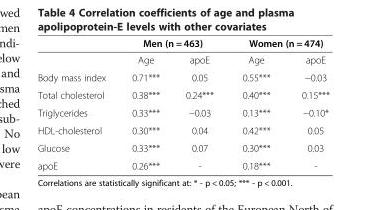table: (36, 37, 328, 170)
table column: (36, 37, 118, 170), (227, 37, 285, 170), (172, 37, 227, 170), (118, 37, 172, 170), (285, 37, 328, 170)
table column header: (36, 37, 328, 68)
table row: (36, 85, 328, 103), (36, 103, 328, 121), (36, 138, 328, 156), (36, 51, 328, 68), (36, 68, 328, 85), (36, 121, 328, 138), (36, 37, 328, 51), (36, 156, 328, 170)
table spanning cell: (118, 37, 227, 51), (227, 37, 328, 51)
